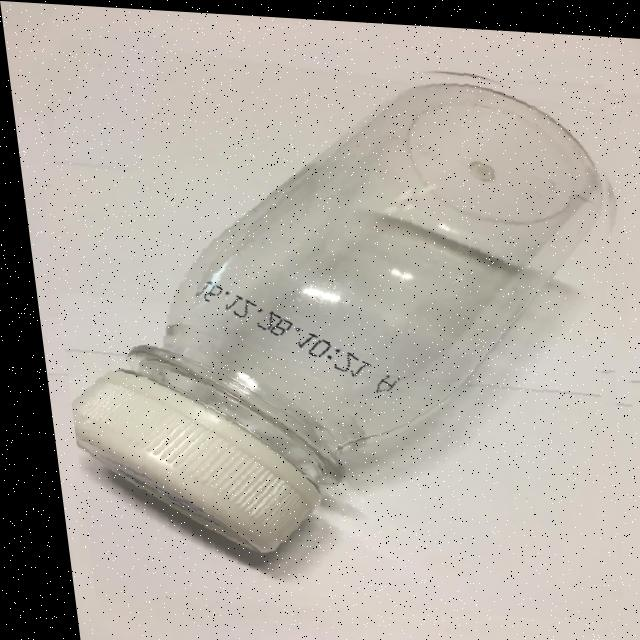litter: (24, 32, 640, 625), (69, 377, 385, 581)
